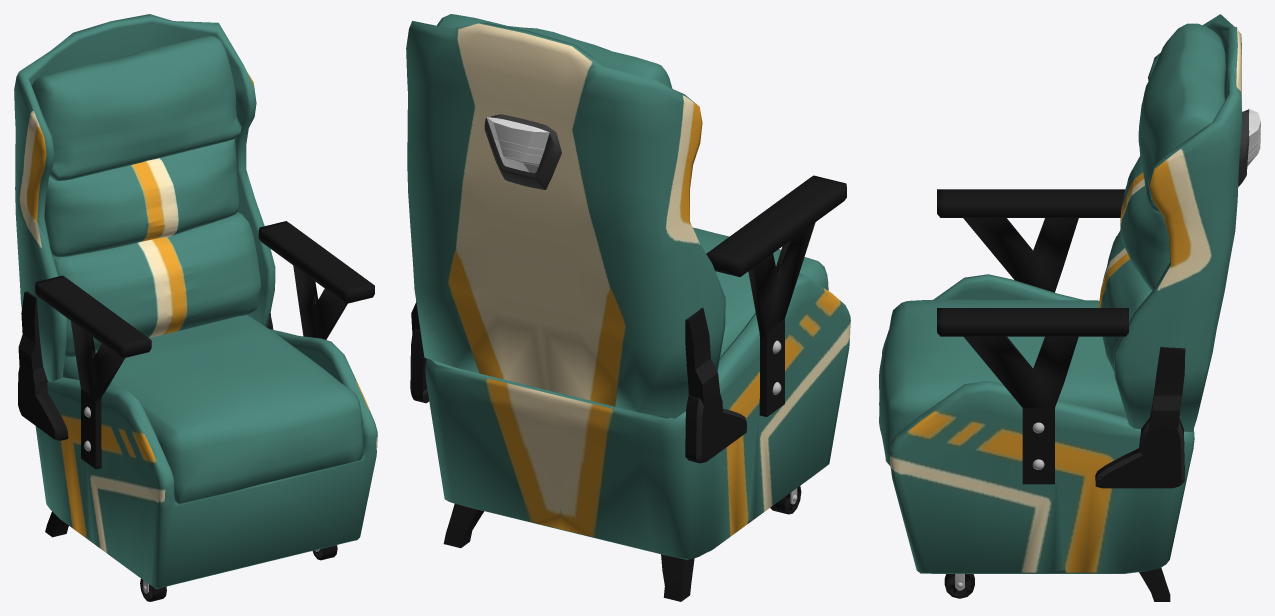
File: sofa2.fbx
3 views of the same model, side by side, from view 1: azimuth 30°, elevation 25°; view 2: azimuth 150°, elevation 25°; view 3: azimuth 270°, elevation 25° (orthographic). The views are drawn at different scales.
Visible parts, largest first — view 1: main, armrest, accent1, accent; view 2: main, accent, armrest, accent1, armrest1; view 3: main, armrest, accent1, accent, armrest1.
Part boxes in pixels (<box>): main: <box>14,14,377,588</box>; armrest: <box>18,221,374,601</box>; accent1: <box>26,66,369,538</box>; accent: <box>19,110,377,553</box>; main: <box>406,14,850,559</box>; accent: <box>455,23,850,515</box>; armrest: <box>410,114,846,601</box>; accent1: <box>448,102,840,537</box>; armrest1: <box>486,117,549,173</box>; main: <box>879,14,1241,573</box>; armrest: <box>937,109,1249,601</box>; accent1: <box>907,153,1191,572</box>; accent: <box>889,28,1241,572</box>; armrest1: <box>1247,109,1260,166</box>.
Size of the model in its own units: 8.2 by 14.28 by 9.79.
Materials: 6 (1 with a texture image).
